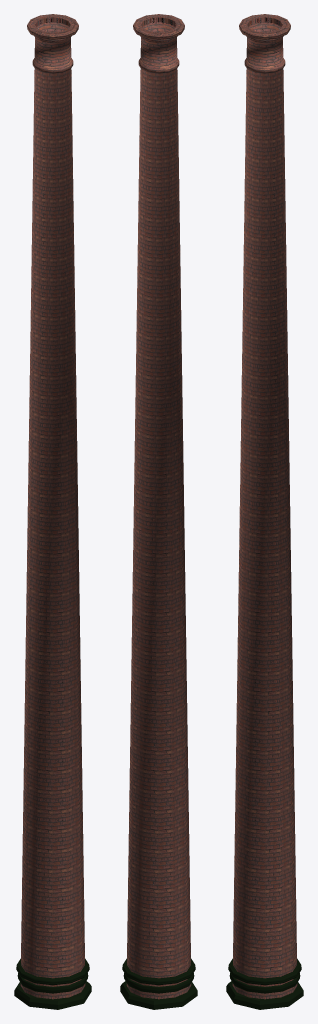
Rendered from finlayson.obj.
3 renders of one model, left to right at view 1: azimuth 30°, elevation 25°; view 2: azimuth 150°, elevation 25°; view 3: azimuth 330°, elevation 25°, orthographic.
Visible parts, largest first — view 1: Cylinder.001; view 2: Cylinder.001; view 3: Cylinder.001.
Part boxes in pixels (<box>): Cylinder.001: <box>14,14,91,1009</box>; Cylinder.001: <box>120,14,197,1009</box>; Cylinder.001: <box>226,14,303,1009</box>.
Bounding box in the file's own units: 4.12 × 60.15 × 4.12.
Materials: 2 (1 with a texture image).
